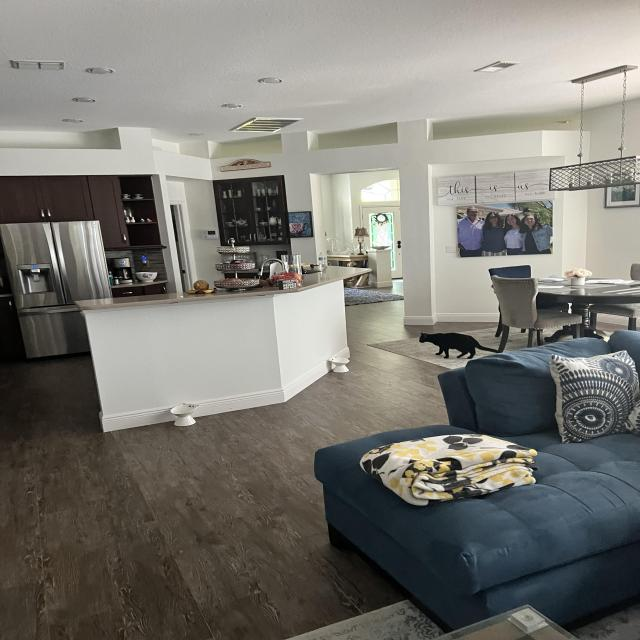Appliance_Fridge: (0, 221, 111, 360)
Cabinet_Glass: (212, 175, 290, 247)
Cabinet_Shaker: (0, 175, 128, 248), (0, 294, 25, 364), (113, 284, 167, 298)
Countertop_Granite: (75, 266, 371, 309), (111, 275, 169, 291)
